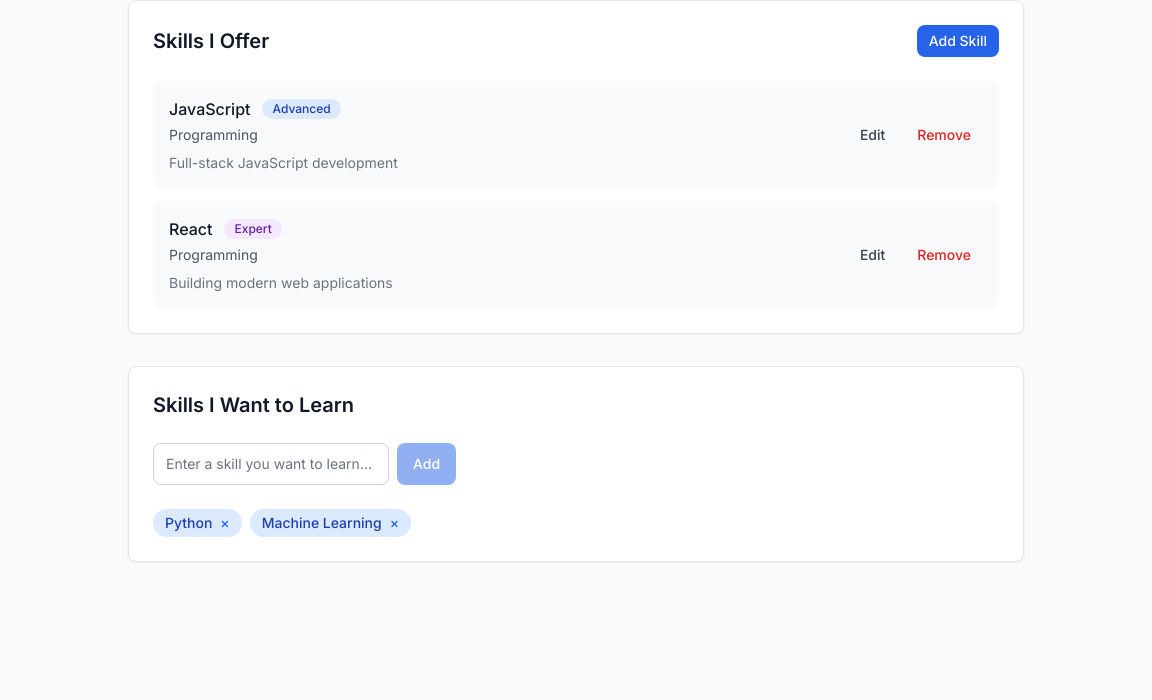
Test case: SkillsManager › opens add skill form when add skill button is clicked
This screenshot has width=1152, height=700.
Click the button "Add Skill".
click(958, 41)  # box [917, 25, 999, 57]
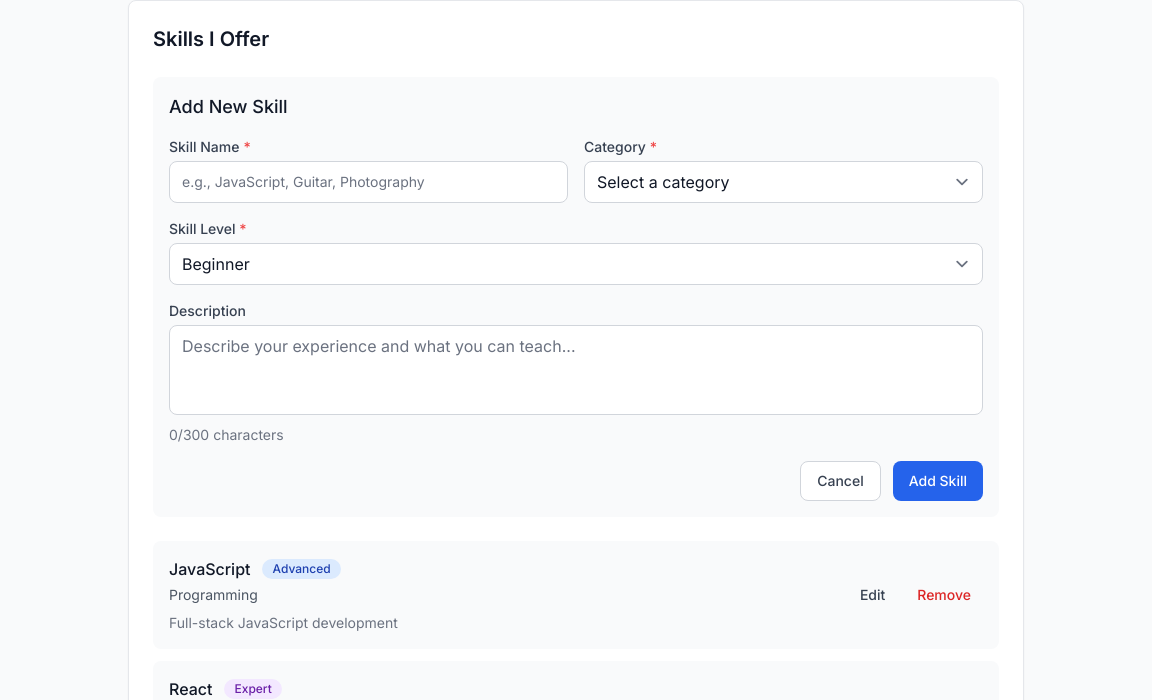
Now the heading "Add New Skill" is shown, box [169, 96, 288, 117]
Now the field with placeholder "e.g., JavaScript, Guitar, Photography" is shown, box [169, 161, 568, 203]
Now the number of dropdowns is 2, box [584, 161, 983, 203]; [169, 243, 983, 285]
